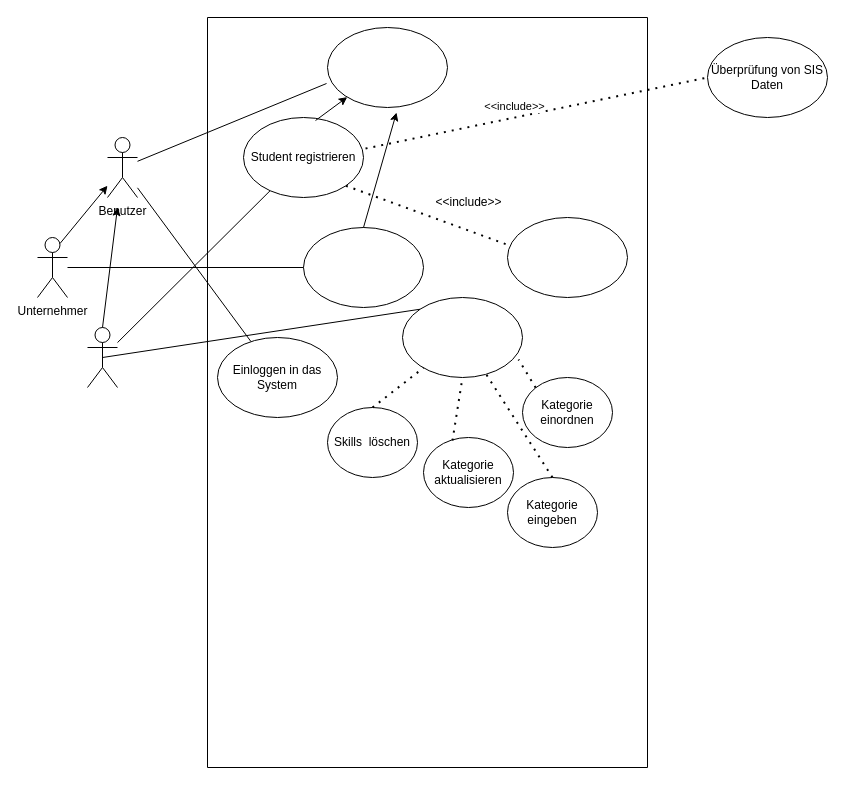
Some shapes in this 845 by 785 pixel diagram are drawn without their labels. Here are the shapes that lost their labels. From the top down, the box of each, then its label:
(326, 26, 448, 108): Benutzer registrieren
(302, 226, 424, 308): Unternehmer registrieren
(506, 216, 628, 298): Benutzerprofil anlegen
(86, 326, 118, 388): Student
(402, 296, 522, 378): Skills verwalten
